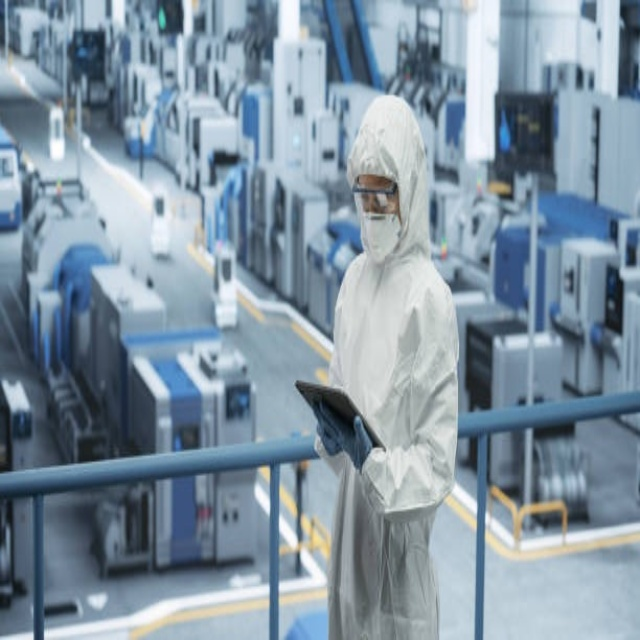Gafas: (352, 178, 399, 211)
Guantes: (312, 396, 349, 460), (353, 415, 375, 474)
Mascara: (358, 198, 403, 264)
